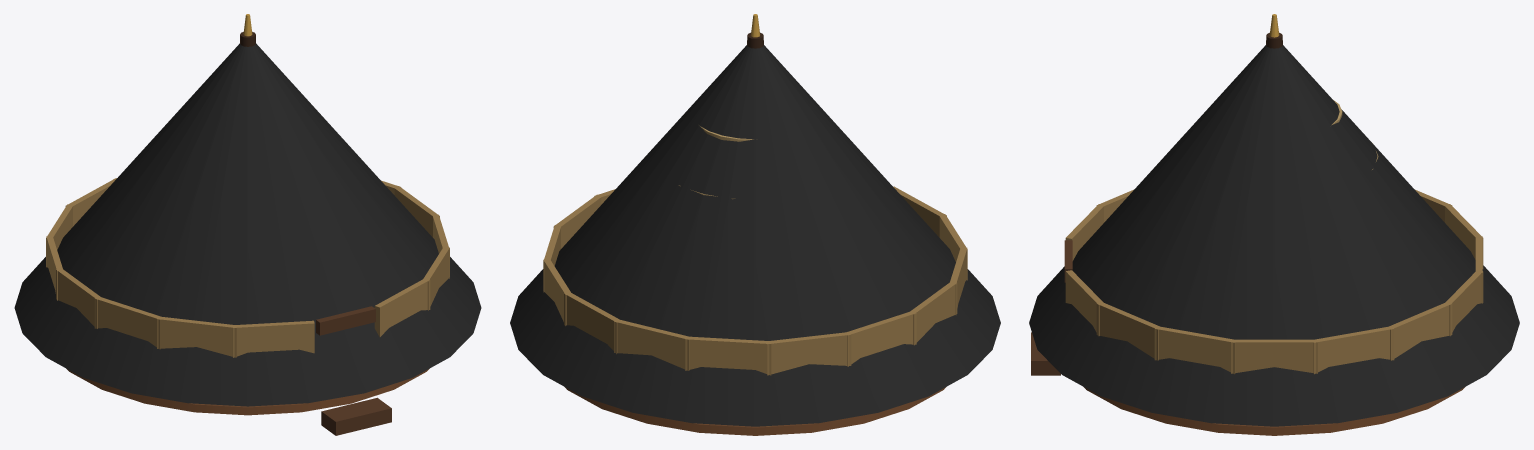
The model's file is mbaru-niang.glb.
The picture shows the model from 3 angles, left to right: view 1: azimuth 30°, elevation 25°; view 2: azimuth 150°, elevation 25°; view 3: azimuth 270°, elevation 25°; orthographic projection. The views are drawn at different scales.
Parts seen in each view (by area): view 1: ROOF_SYSTEM, WALL_SYSTEM, FLOOR_SYSTEM, DOORS; view 2: ROOF_SYSTEM, WALL_SYSTEM, FLOOR_SYSTEM; view 3: ROOF_SYSTEM, WALL_SYSTEM, FLOOR_SYSTEM.
Part boxes in pixels (x1,y1,x2,y2): ROOF_SYSTEM: (14,14,481,406); WALL_SYSTEM: (46,178,449,406); FLOOR_SYSTEM: (66,368,429,435); DOORS: (316,306,375,335); ROOF_SYSTEM: (510,14,1000,426); WALL_SYSTEM: (543,186,967,426); FLOOR_SYSTEM: (565,387,945,435); ROOF_SYSTEM: (1029,14,1519,426); WALL_SYSTEM: (1065,189,1483,424); FLOOR_SYSTEM: (1031,332,1464,435).
Bounding box in the file's own units: 13 × 10.12 × 13.
